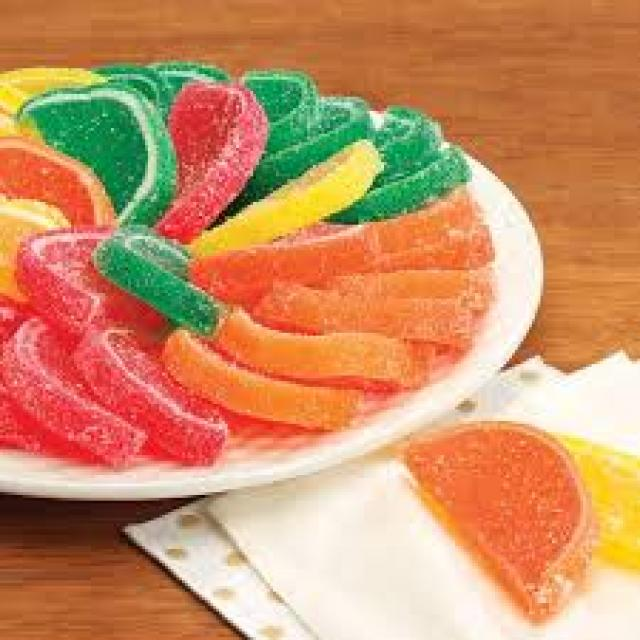Organik: (184, 228, 480, 386), (67, 65, 241, 305), (414, 418, 640, 588), (0, 293, 176, 464), (238, 71, 460, 202), (2, 63, 107, 274)
